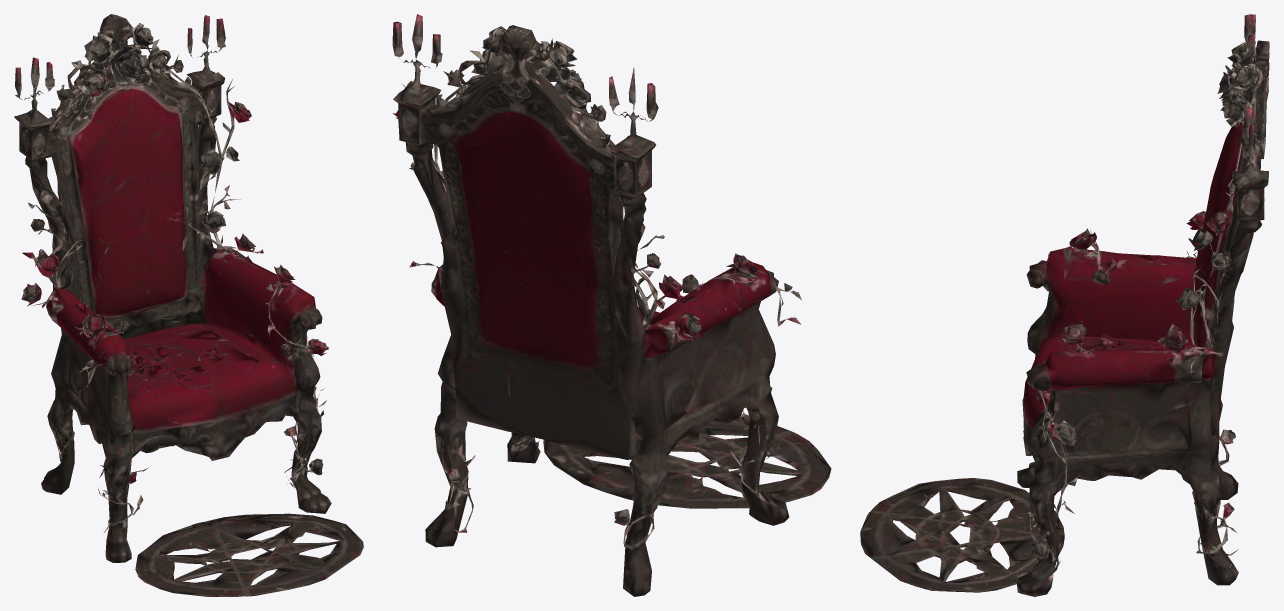
File: chair.glb
3 views of the same model, side by side, from view 1: azimuth 30°, elevation 25°; view 2: azimuth 150°, elevation 25°; view 3: azimuth 270°, elevation 25° (orthographic). The views are drawn at different scales.
Bounding box in the file's own units: 1.14 × 1.9 × 1.42.
1 material, 1 textured.
